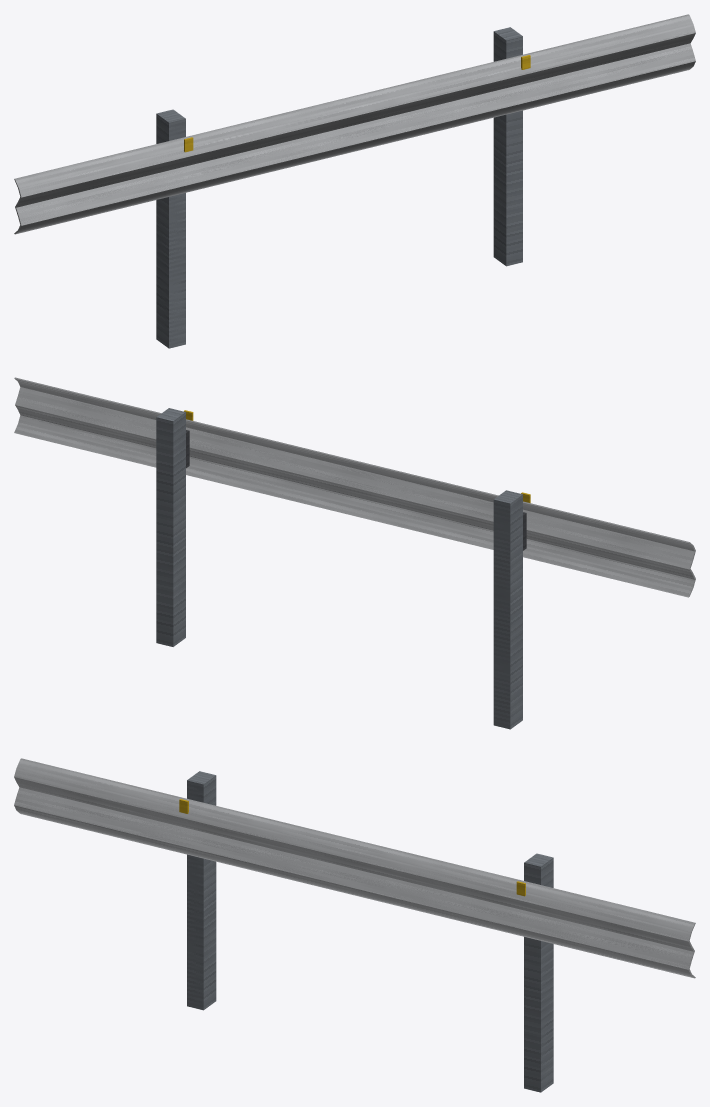
File: guard_rail.glb
The picture shows the model from 3 angles, top to bottom: view 1: azimuth 30°, elevation 25°; view 2: azimuth 150°, elevation 25°; view 3: azimuth 330°, elevation 25°; orthographic projection.
Visible parts, largest first — view 1: Inteiro, Peca_00, Peca_01; view 2: Inteiro, Peca_00, Peca_01; view 3: Inteiro, Peca_00, Peca_02, Peca_01.
Boxes of the visible parts, bbox=[...] form: Inteiro: bbox=[14, 15, 695, 348]; Peca_00: bbox=[15, 14, 695, 231]; Peca_01: bbox=[156, 109, 190, 347]; Inteiro: bbox=[14, 378, 695, 729]; Peca_00: bbox=[14, 377, 694, 594]; Peca_01: bbox=[493, 493, 530, 729]; Inteiro: bbox=[14, 760, 695, 1092]; Peca_00: bbox=[14, 758, 694, 977]; Peca_02: bbox=[518, 853, 553, 1092]; Peca_01: bbox=[180, 771, 215, 1009].
Size of the model in its own units: 4 by 1.28 by 0.26.
1 material, 1 textured.
